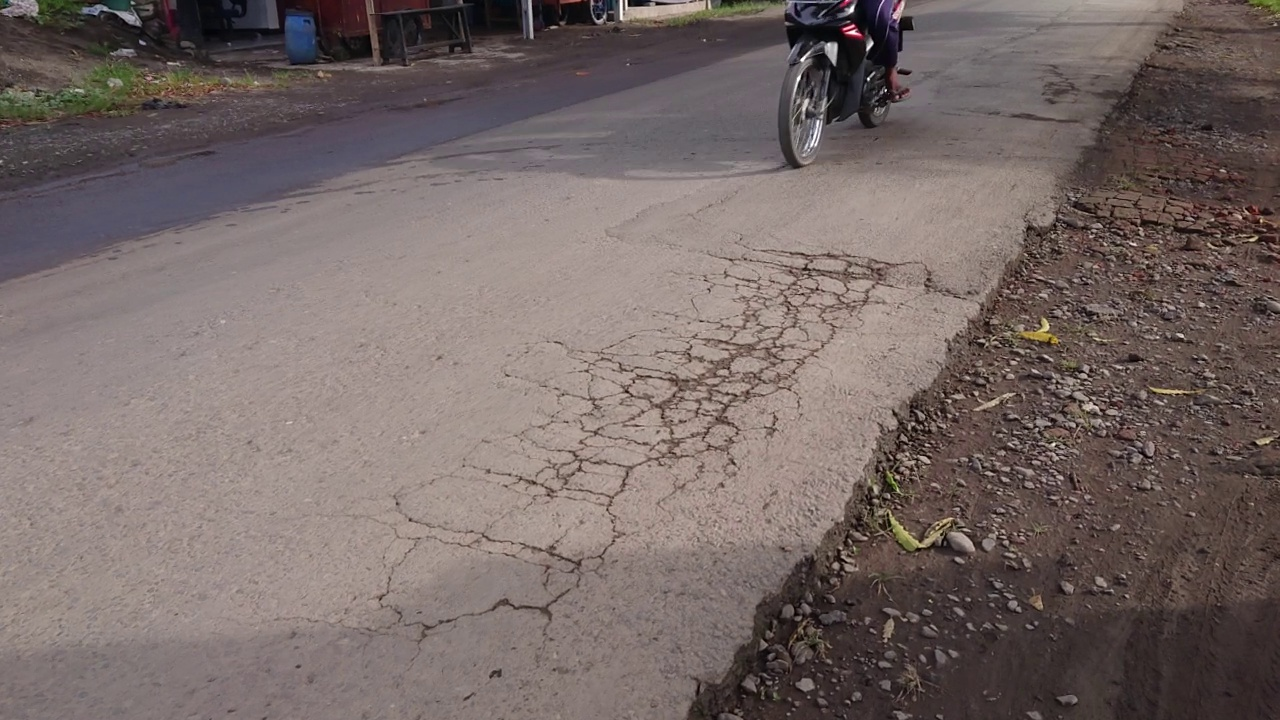Retak: (420, 243, 863, 632), (1018, 50, 1105, 129)
